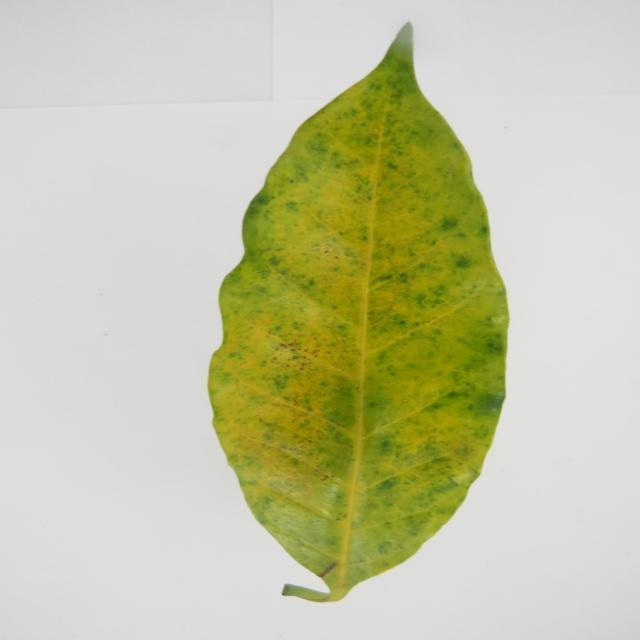DeficienciaNutricional-Nitrogeno: (208, 24, 508, 602)
